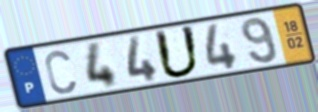4: (83, 40, 122, 90), (204, 21, 240, 71), (126, 33, 160, 84)
9: (238, 16, 280, 66)
C: (43, 49, 78, 97)
U: (152, 24, 203, 81)
